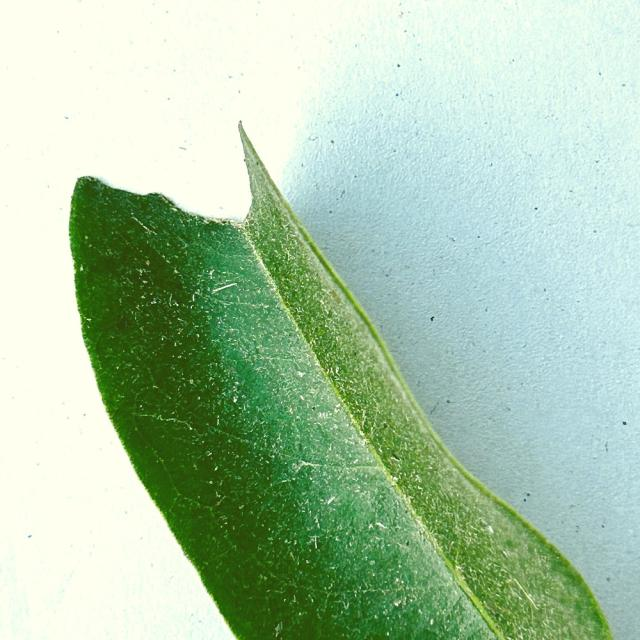Deficiency Leaf: (61, 104, 248, 223)
Lychee: (67, 127, 616, 639)
